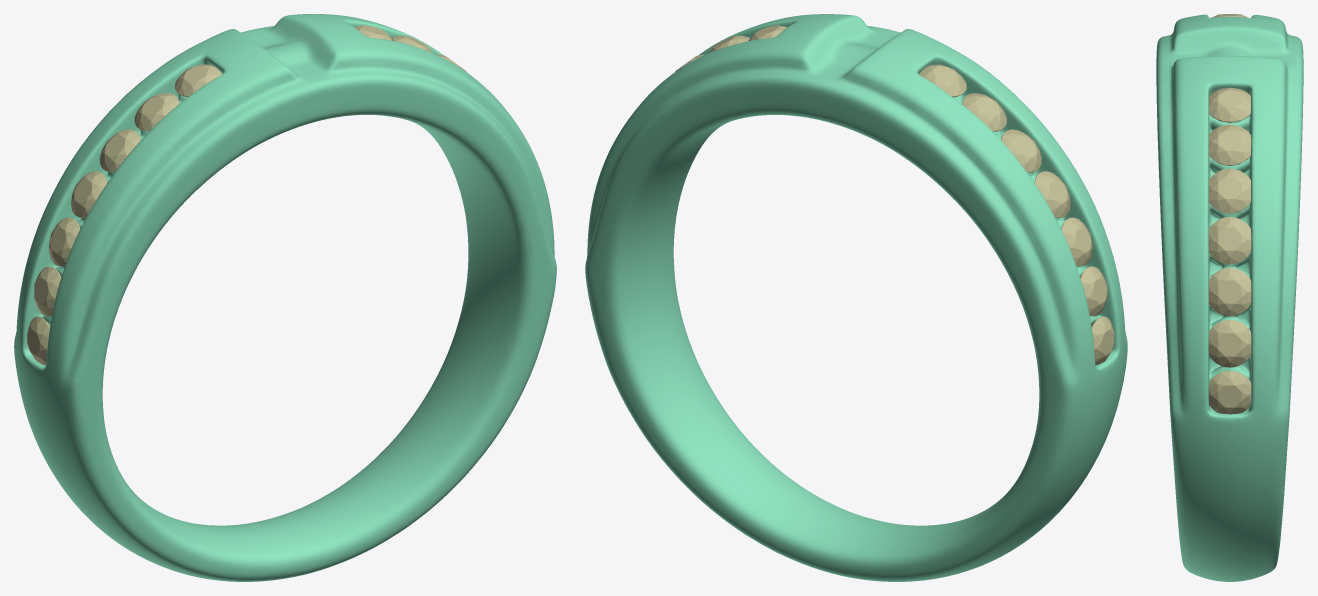
3 views of the same model, side by side, from view 1: azimuth 30°, elevation 25°; view 2: azimuth 150°, elevation 25°; view 3: azimuth 270°, elevation 25° (orthographic). The views are drawn at different scales.
Parts seen in each view (by area): view 1: Metal02, Diamond_Gem.003, Diamond_Gem.004, Diamond_Gem.005, Diamond_Gem.002, Diamond_Gem.001, Diamond_Gem.006, Diamond_Gem; view 2: Metal02, Diamond_Gem.003, Diamond_Gem.004, Diamond_Gem.002, Diamond_Gem.005, Diamond_Gem.001, Diamond_Gem.006, Diamond_Gem; view 3: Metal02, Diamond_Gem.011, Diamond_Gem.012, Diamond_Gem.010, Diamond_Gem.013, Diamond_Gem.009, Diamond_Gem.008, Diamond_Gem.007.
Boxes of the visible parts, box(x1,y1,x2,y2) form: Metal02: box(14, 14, 556, 581); Diamond_Gem.003: box(71, 171, 107, 217); Diamond_Gem.004: box(99, 129, 140, 172); Diamond_Gem.005: box(134, 93, 179, 131); Diamond_Gem.002: box(49, 217, 80, 266); Diamond_Gem.001: box(34, 266, 61, 316); Diamond_Gem.006: box(174, 64, 221, 96); Diamond_Gem: box(26, 316, 50, 365); Metal02: box(585, 14, 1127, 581); Diamond_Gem.003: box(1034, 171, 1070, 217); Diamond_Gem.004: box(1001, 129, 1041, 172); Diamond_Gem.002: box(1061, 217, 1092, 266); Diamond_Gem.005: box(962, 93, 1006, 131); Diamond_Gem.001: box(1080, 266, 1107, 316); Diamond_Gem.006: box(919, 64, 966, 96); Diamond_Gem: box(1091, 316, 1114, 365); Metal02: box(1156, 14, 1303, 581); Diamond_Gem.011: box(1208, 268, 1251, 316); Diamond_Gem.012: box(1208, 320, 1251, 367); Diamond_Gem.010: box(1208, 217, 1251, 264); Diamond_Gem.013: box(1208, 371, 1251, 414); Diamond_Gem.009: box(1209, 168, 1250, 213); Diamond_Gem.008: box(1209, 124, 1251, 165); Diamond_Gem.007: box(1209, 87, 1250, 122).
Size of the model in its own units: 21.67 by 21.79 by 5.66.
